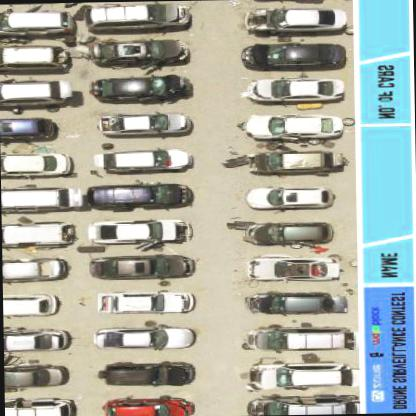car: (240, 40, 346, 70), (88, 37, 188, 68), (84, 1, 188, 30), (245, 362, 352, 390), (86, 253, 192, 281), (87, 181, 188, 210), (90, 75, 189, 104), (242, 324, 350, 350), (244, 4, 344, 32), (87, 217, 190, 243), (102, 359, 194, 388), (242, 290, 348, 315), (95, 324, 191, 350), (240, 114, 340, 138), (240, 219, 332, 245), (244, 394, 358, 414), (244, 256, 339, 280), (242, 186, 335, 210), (100, 291, 192, 315), (0, 9, 75, 38), (95, 112, 188, 135), (245, 78, 341, 100), (94, 148, 189, 170), (248, 150, 341, 172), (99, 393, 192, 415), (0, 42, 69, 70), (1, 186, 79, 210), (0, 78, 70, 104), (2, 256, 67, 283), (2, 222, 74, 246), (0, 150, 70, 174), (4, 362, 68, 388), (2, 290, 58, 318), (3, 326, 68, 350), (4, 394, 78, 415), (0, 115, 54, 142)
